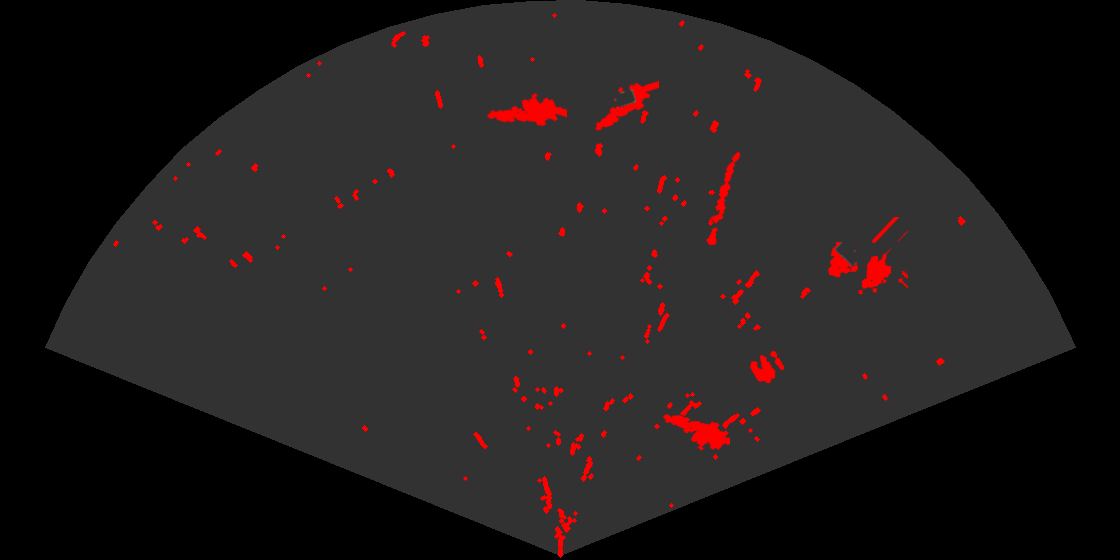ball: (748, 349, 786, 385)
cage: (826, 217, 908, 296)
chain: (704, 150, 742, 248)
frogman: (593, 79, 659, 133), (485, 91, 567, 128), (661, 413, 730, 452)
